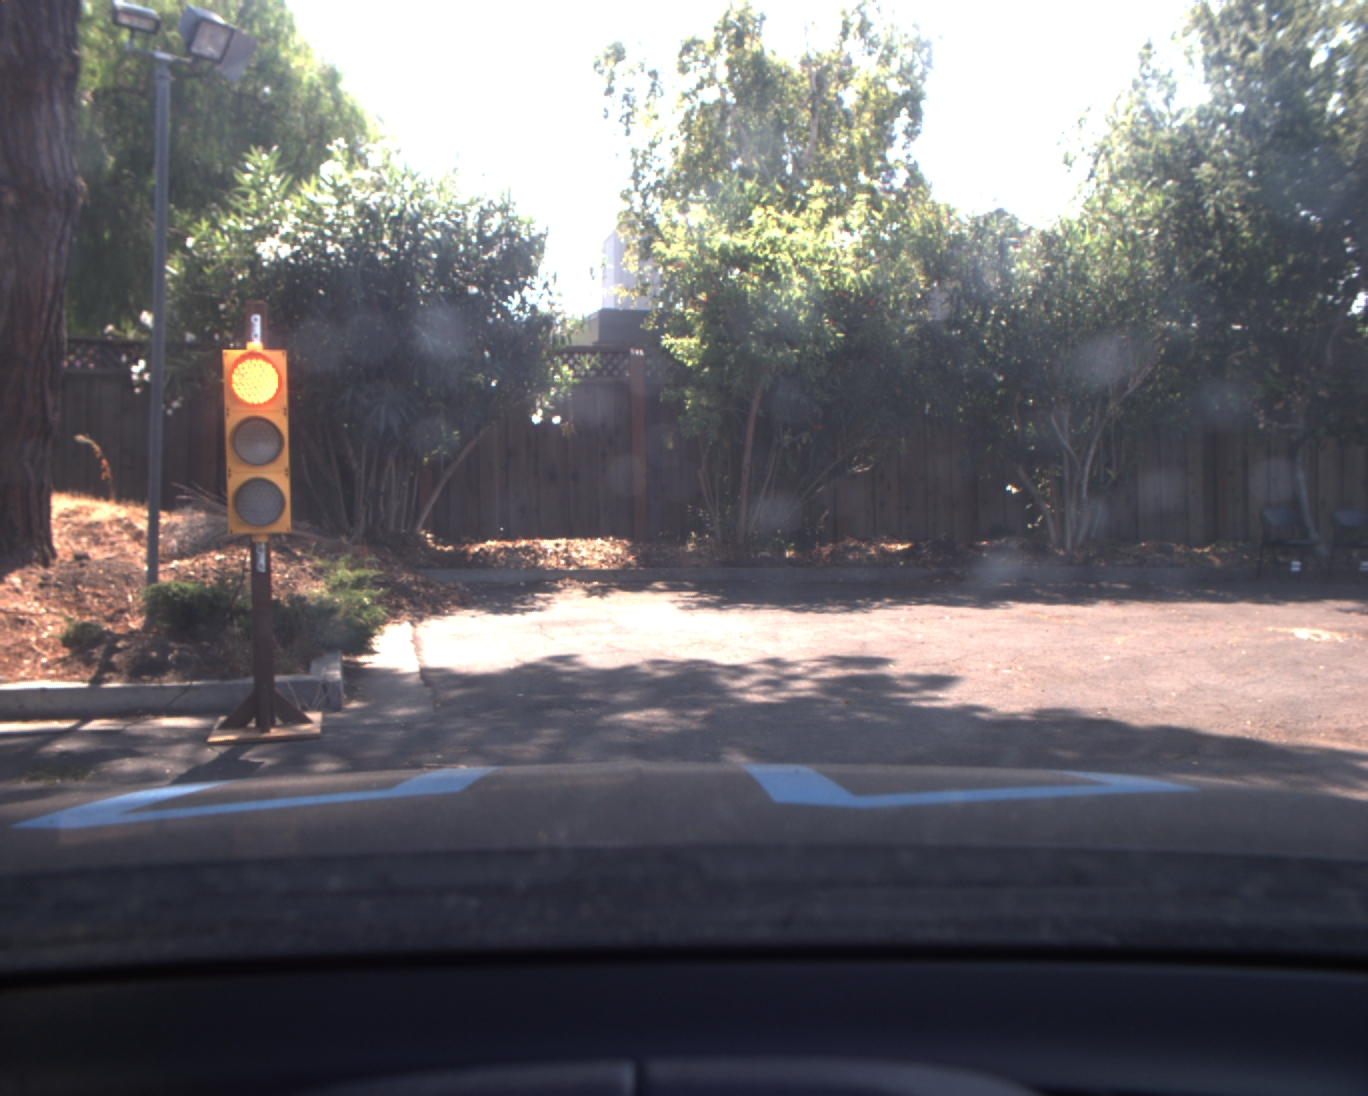red: (224, 345, 295, 538)
